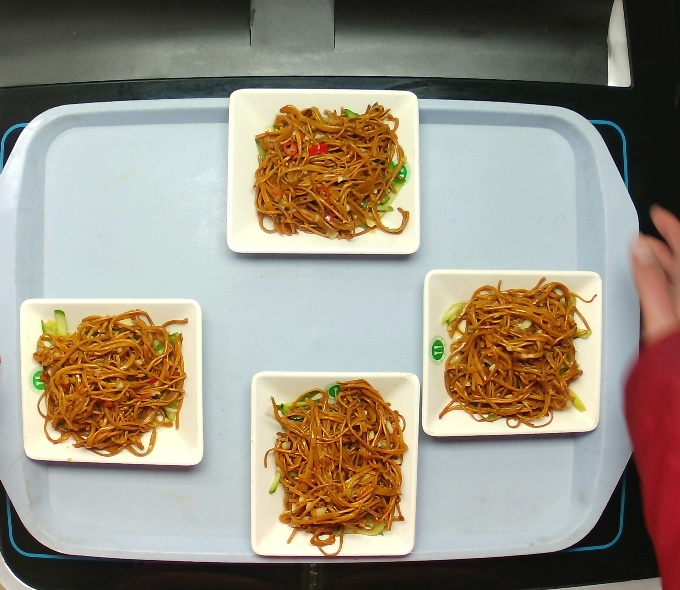wcq-LiangBanChongCaoHua: (22, 300, 199, 461), (265, 378, 414, 560), (436, 279, 592, 440), (249, 99, 414, 246)
